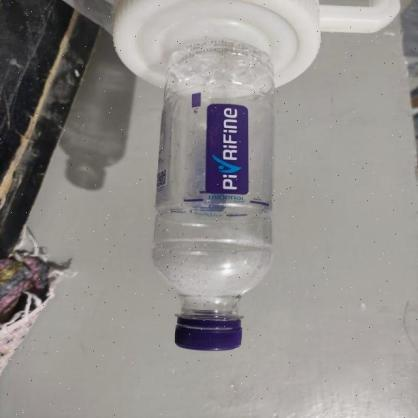bottle: (151, 42, 277, 354)
cap: (175, 314, 242, 353)
label: (156, 48, 274, 213)
